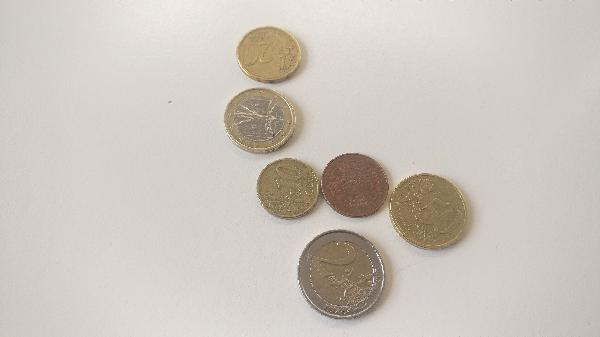Fifty Cent: (389, 171, 470, 252)
Five Cent: (320, 152, 386, 215)
One Euro: (223, 87, 299, 150)
Ten Cent: (254, 158, 320, 219)
Twenty Cent: (233, 27, 307, 81)
Two Euro: (297, 229, 389, 319)
